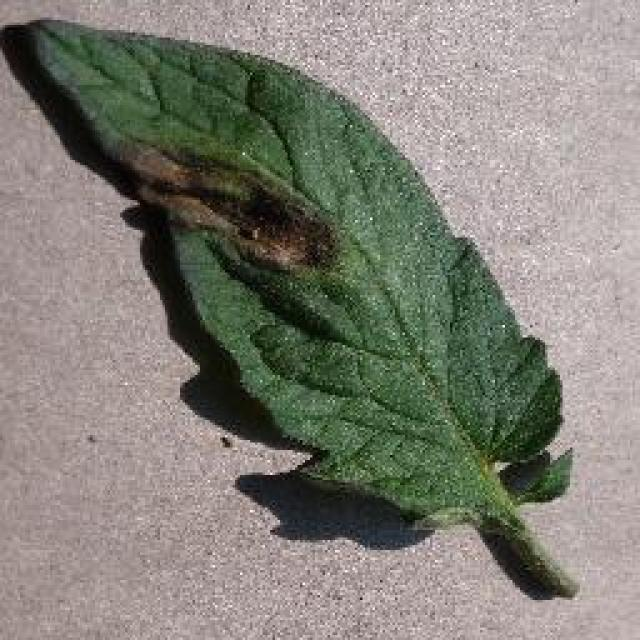Tomato Late Blight: (106, 107, 356, 300)
